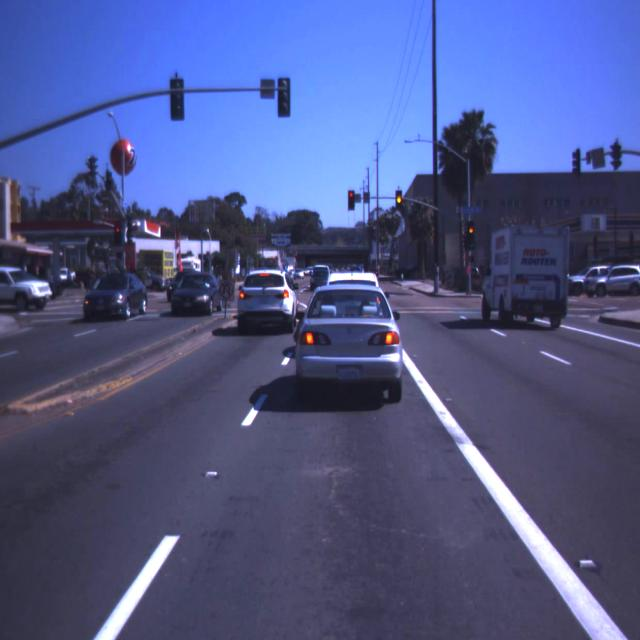arka_lamba: (170, 79, 184, 121), (278, 78, 290, 117)
kirmizi: (348, 190, 355, 210)
sari: (395, 190, 402, 210), (468, 222, 475, 242)
